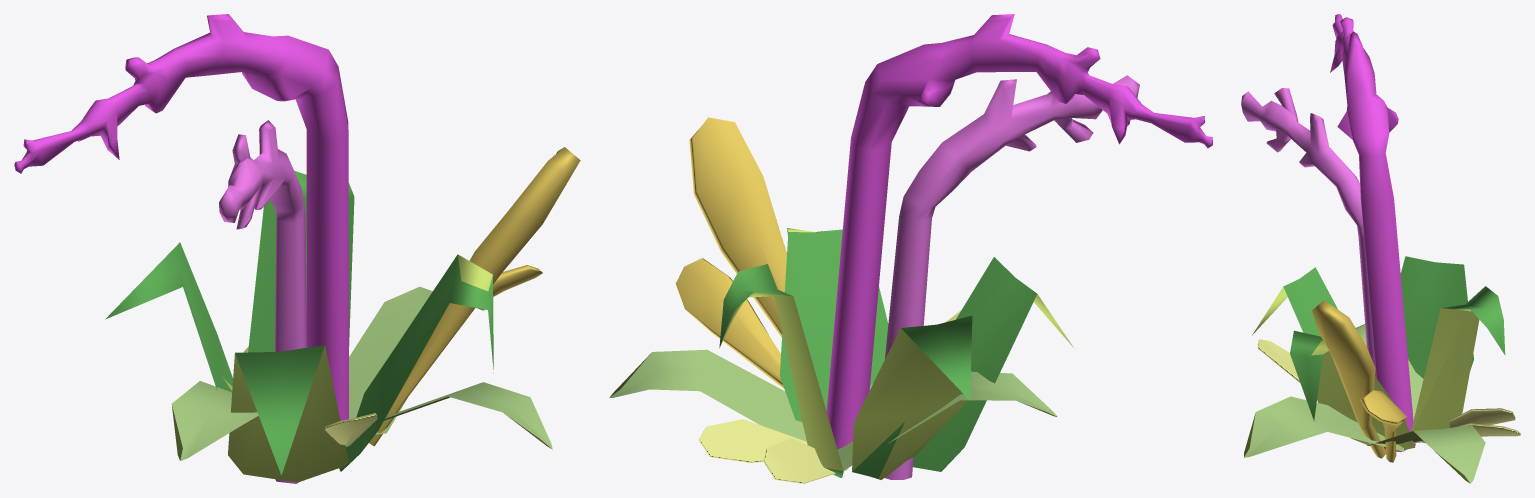
File: coral flower.fbx
3 views of the same model, side by side, from view 1: azimuth 30°, elevation 25°; view 2: azimuth 150°, elevation 25°; view 3: azimuth 270°, elevation 25° (orthographic). The views are drawn at different scales.
Parts seen in each view (by area): view 1: polySurface135, polySurface145, polySurface136, polySurface141, polySurface143, polySurface146, polySurface203, polySurface144, polySurface149, polySurface202, polySurface204, polySurface142; view 2: polySurface135, polySurface136, polySurface146, polySurface141, polySurface145, polySurface143, polySurface203, polySurface144, polySurface142, polySurface138, polySurface149, polySurface140; view 3: polySurface135, polySurface144, polySurface136, polySurface146, polySurface202, polySurface141, polySurface143, polySurface203, polySurface145, polySurface142, polySurface140, polySurface204 (+2 smaller).
Boxes of the visible parts, x1=… form: polySurface135: x1=14, y1=14, x2=348, y2=420; polySurface145: x1=228, y1=345, x2=348, y2=482; polySurface136: x1=219, y1=120, x2=307, y2=483; polySurface141: x1=369, y1=147, x2=580, y2=446; polySurface143: x1=339, y1=254, x2=493, y2=471; polySurface146: x1=105, y1=242, x2=232, y2=392; polySurface203: x1=349, y1=286, x2=484, y2=435; polySurface144: x1=248, y1=171, x2=354, y2=352; polySurface149: x1=171, y1=381, x2=258, y2=460; polySurface202: x1=373, y1=382, x2=552, y2=449; polySurface204: x1=324, y1=413, x2=377, y2=446; polySurface142: x1=493, y1=265, x2=542, y2=296; polySurface135: x1=826, y1=14, x2=1212, y2=449; polySurface136: x1=885, y1=75, x2=1139, y2=479; polySurface146: x1=852, y1=315, x2=972, y2=479; polySurface141: x1=689, y1=117, x2=786, y2=337; polySurface145: x1=913, y1=257, x2=1073, y2=471; polySurface143: x1=779, y1=228, x2=888, y2=421; polySurface203: x1=609, y1=349, x2=806, y2=441; polySurface144: x1=719, y1=264, x2=843, y2=477; polySurface142: x1=675, y1=258, x2=784, y2=388; polySurface138: x1=698, y1=419, x2=807, y2=462; polySurface149: x1=836, y1=371, x2=1057, y2=472; polySurface140: x1=763, y1=438, x2=848, y2=483; polySurface135: x1=1330, y1=14, x2=1415, y2=451; polySurface144: x1=1411, y1=286, x2=1505, y2=443; polySurface136: x1=1241, y1=88, x2=1376, y2=377; polySurface146: x1=1400, y1=256, x2=1473, y2=378; polySurface202: x1=1244, y1=396, x2=1403, y2=457; polySurface141: x1=1312, y1=300, x2=1385, y2=458; polySurface143: x1=1290, y1=330, x2=1415, y2=450; polySurface203: x1=1367, y1=425, x2=1485, y2=483; polySurface145: x1=1252, y1=267, x2=1337, y2=336; polySurface142: x1=1360, y1=390, x2=1406, y2=462; polySurface140: x1=1449, y1=408, x2=1515, y2=427; polySurface204: x1=1257, y1=339, x2=1300, y2=382.
Bounding box in the file's own units: 19.87 × 17.06 × 11.64.
